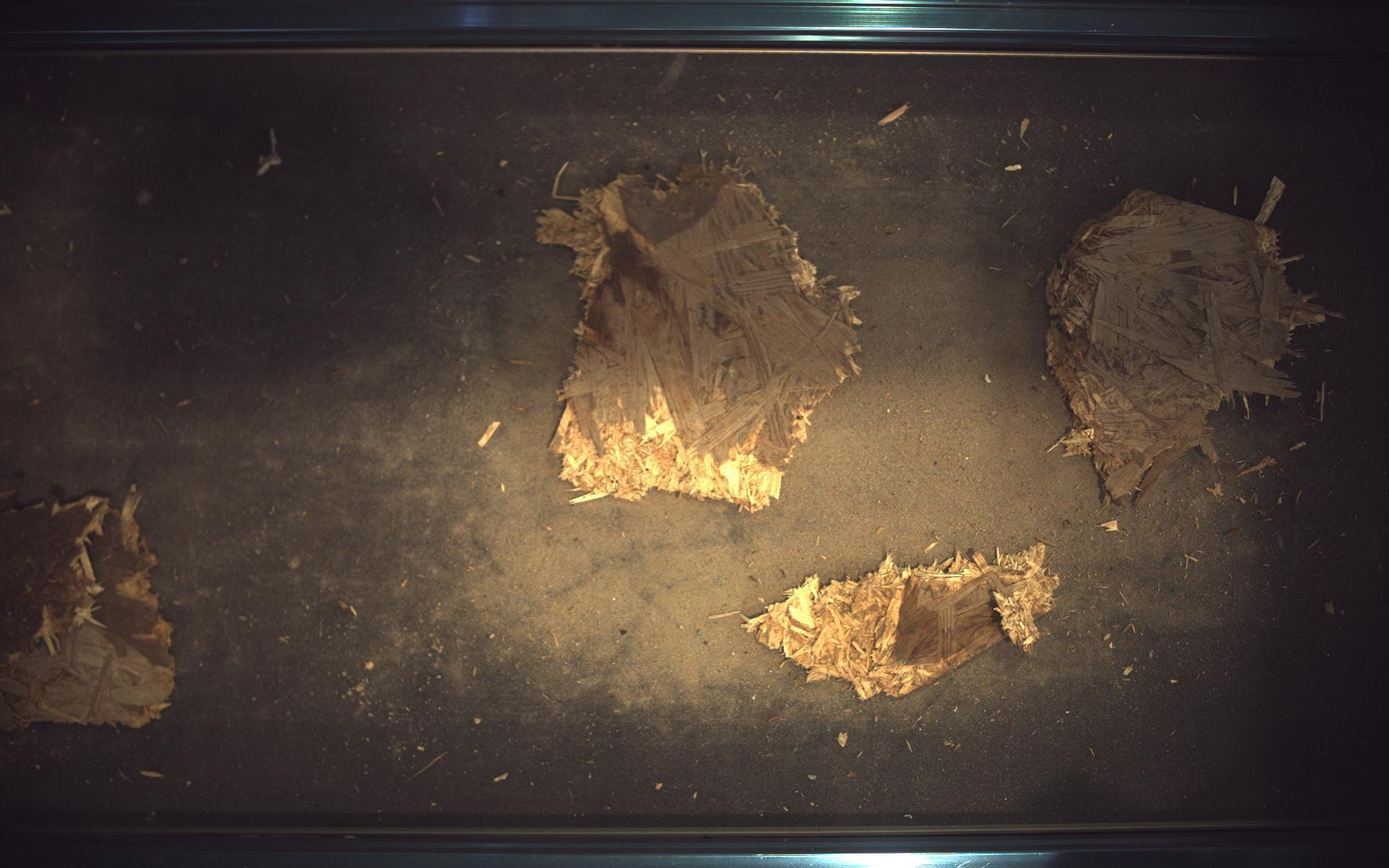wood: (538, 163, 861, 511), (1048, 177, 1333, 505), (744, 544, 1061, 701)
